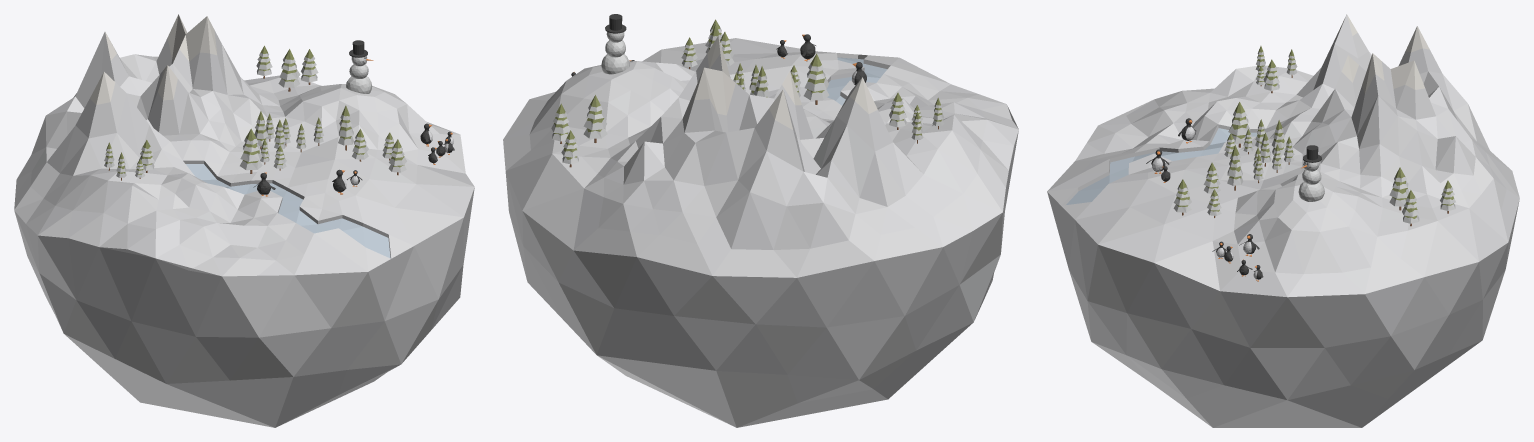
The model's file is winter_with_penguins.dae.
3 renders of one model, left to right at view 1: azimuth 30°, elevation 25°; view 2: azimuth 150°, elevation 25°; view 3: azimuth 270°, elevation 25°, orthographic. The views are drawn at different scales.
Parts seen in each view (by area): view 1: Icosphere_001; view 2: Icosphere_001; view 3: Icosphere_001.
Part boxes in pixels (left/top/right/bottom): Icosphere_001: left=14, top=14, right=474, bottom=427; Icosphere_001: left=503, top=14, right=1018, bottom=427; Icosphere_001: left=1047, top=14, right=1519, bottom=427.
Bounding box in the file's own units: 8.66 × 8.31 × 7.07.
